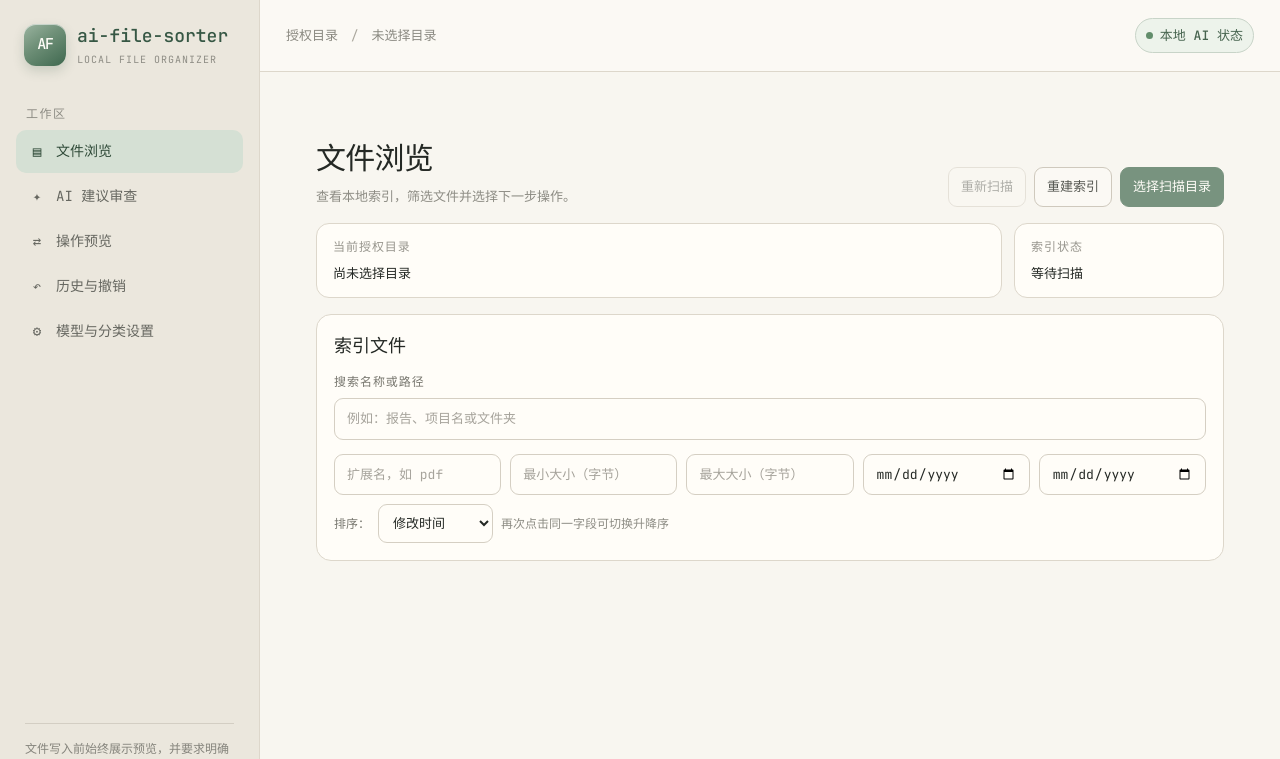
Test: App › opens the directory picker again when selecting another directory
Click the button "选择扫描目录".
click(1172, 187)  # box [1120, 167, 1224, 206]
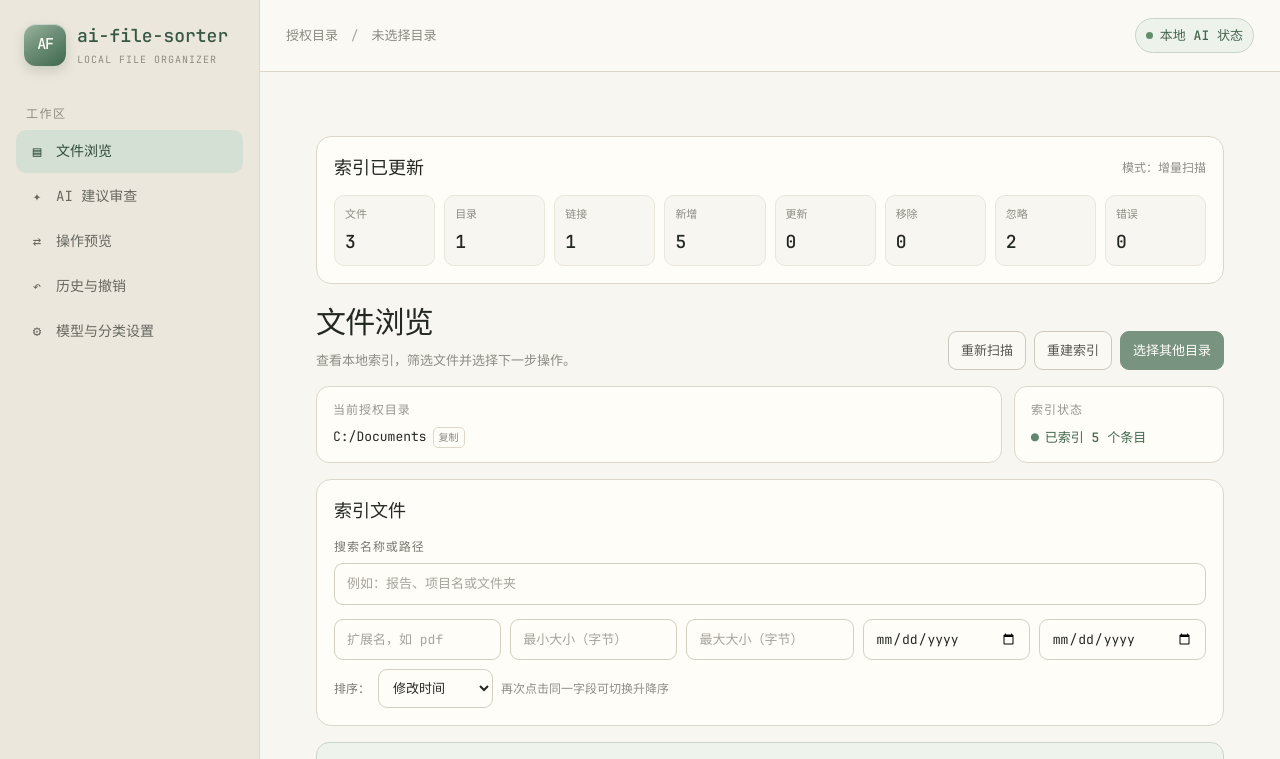
Expected: the text "C:/Documents" is shown, [333, 428, 427, 447]
Click the button "选择其他目录".
click(1172, 350)  # box [1120, 330, 1224, 370]
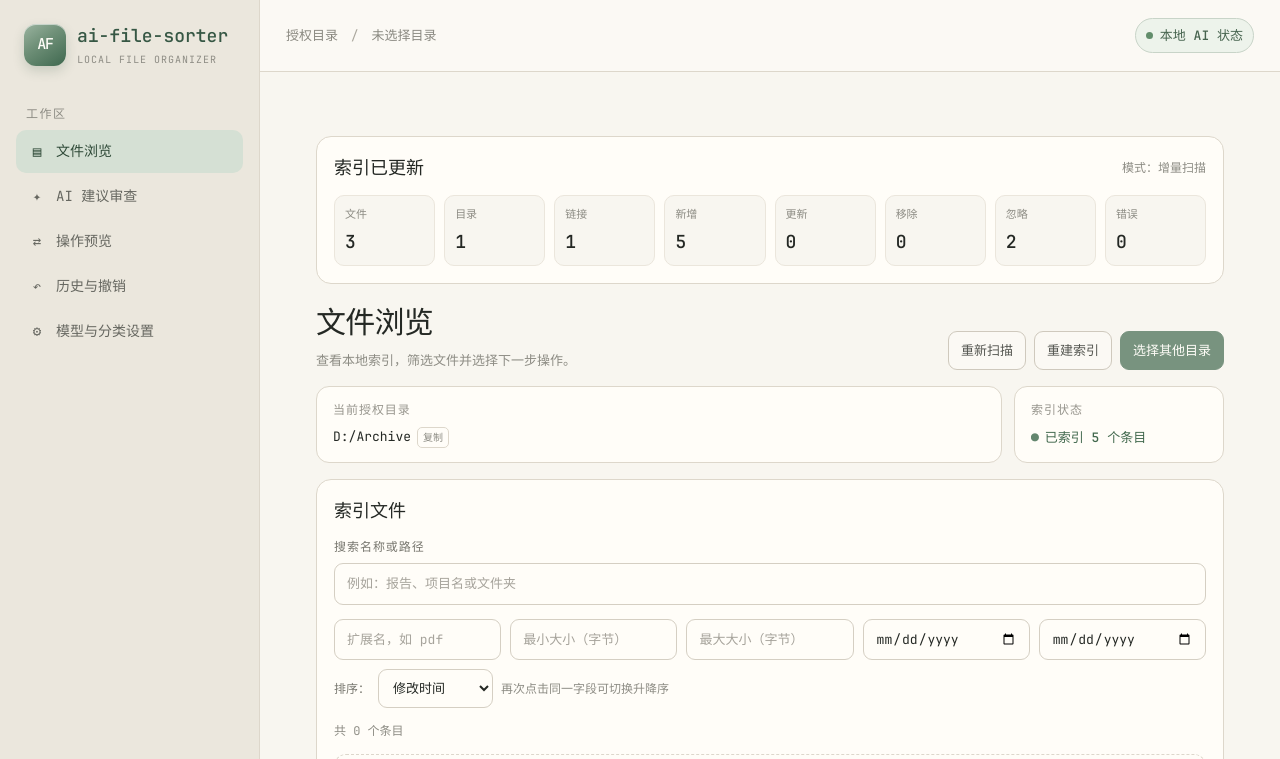
Expected: the text "D:/Archive" is shown, [333, 428, 411, 447]
